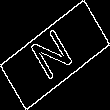N_SE: (28, 23, 82, 87)
